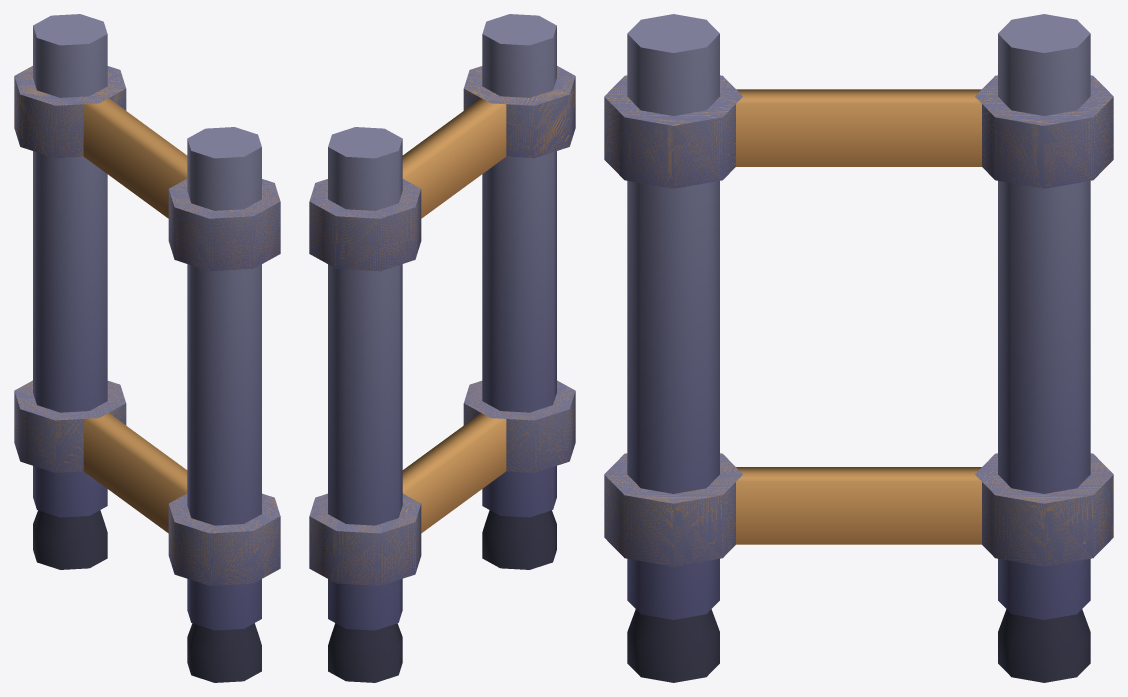
The model's file is structure-yellow-high.glb.
3 views of the same model, side by side, from view 1: azimuth 30°, elevation 25°; view 2: azimuth 150°, elevation 25°; view 3: azimuth 270°, elevation 25° (orthographic). The views are drawn at different scales.
Visible parts, largest first — view 1: structure-yellow-high; view 2: structure-yellow-high; view 3: structure-yellow-high.
Boxes of the visible parts, x1,y1,x2,y2 form: structure-yellow-high: (14,14,280,682); structure-yellow-high: (309,14,575,682); structure-yellow-high: (604,14,1113,682).
Size of the model in its own units: 0.3 by 1.5 by 1.1.
